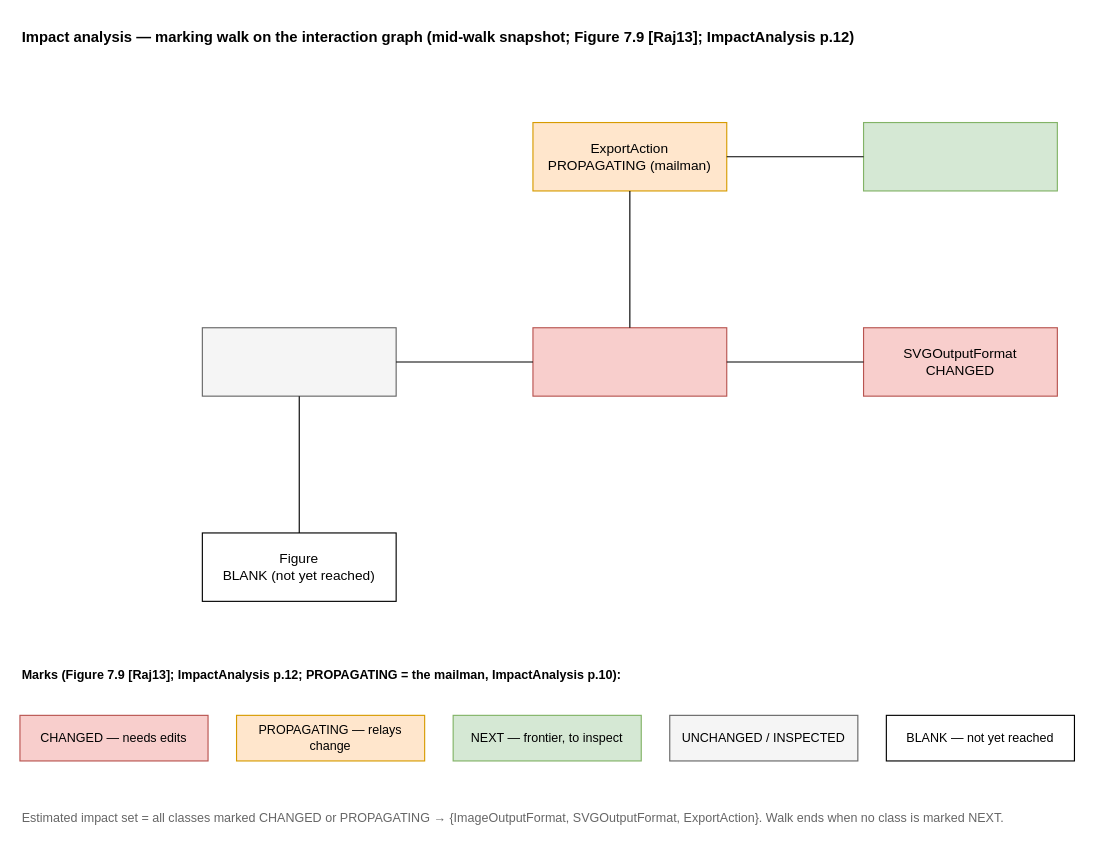
This 1094x860 diagram has some shape labels left out. The box of each missing label's shape, as (x1, y1, x2, y2) in pixels:
Drawing UNCHANGED: (201, 327, 396, 396)
ImageOutputFormat CHANGED (seed): (532, 327, 727, 396)
SVGDrawingPanel NEXT (frontier): (862, 121, 1057, 191)
